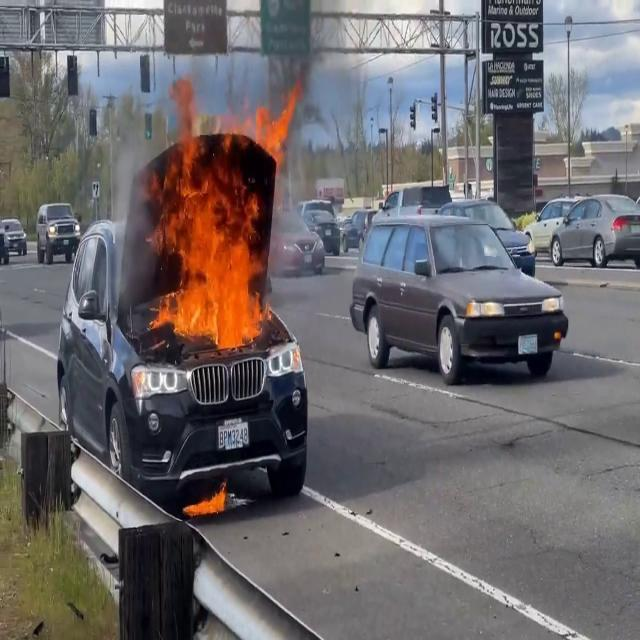Fire: (140, 66, 298, 352), (183, 480, 229, 522)
Smoke: (254, 0, 369, 124)
